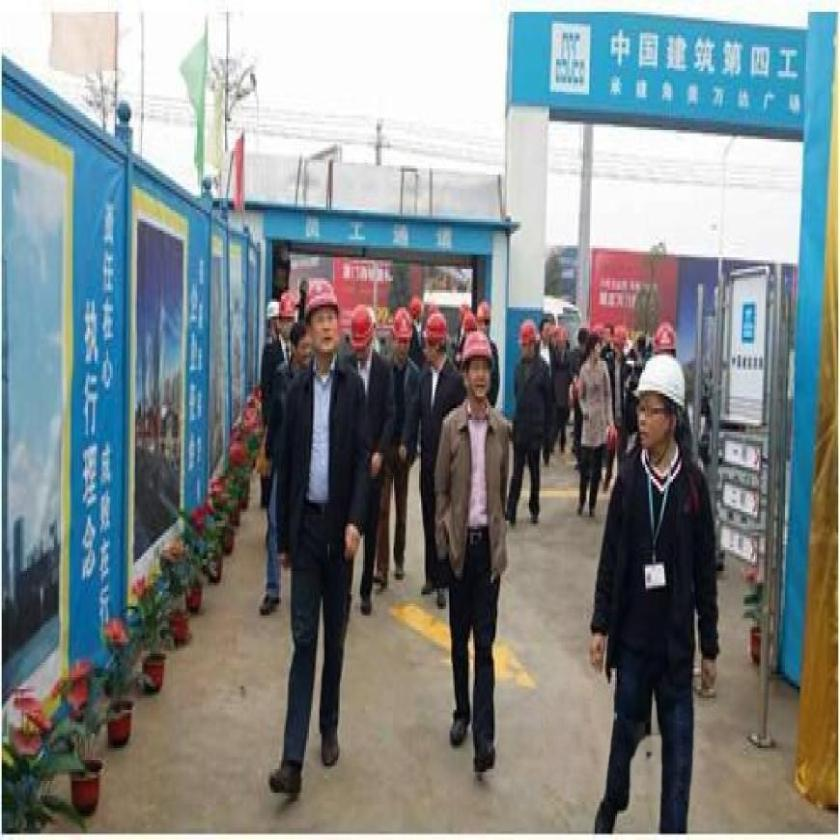Con_casco: (628, 351, 692, 464), (301, 277, 345, 360), (458, 328, 496, 409)
